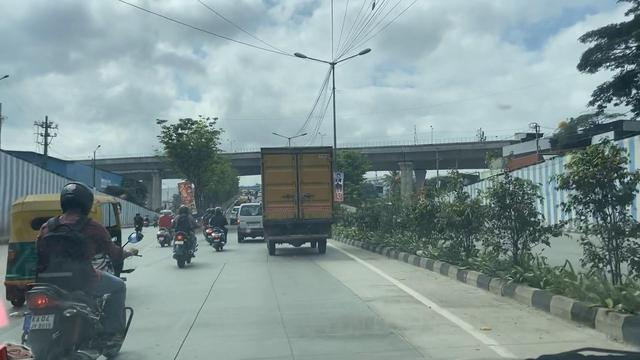HMV: (261, 150, 335, 250)
LMV: (28, 186, 128, 360), (169, 210, 202, 263), (210, 203, 231, 254)
